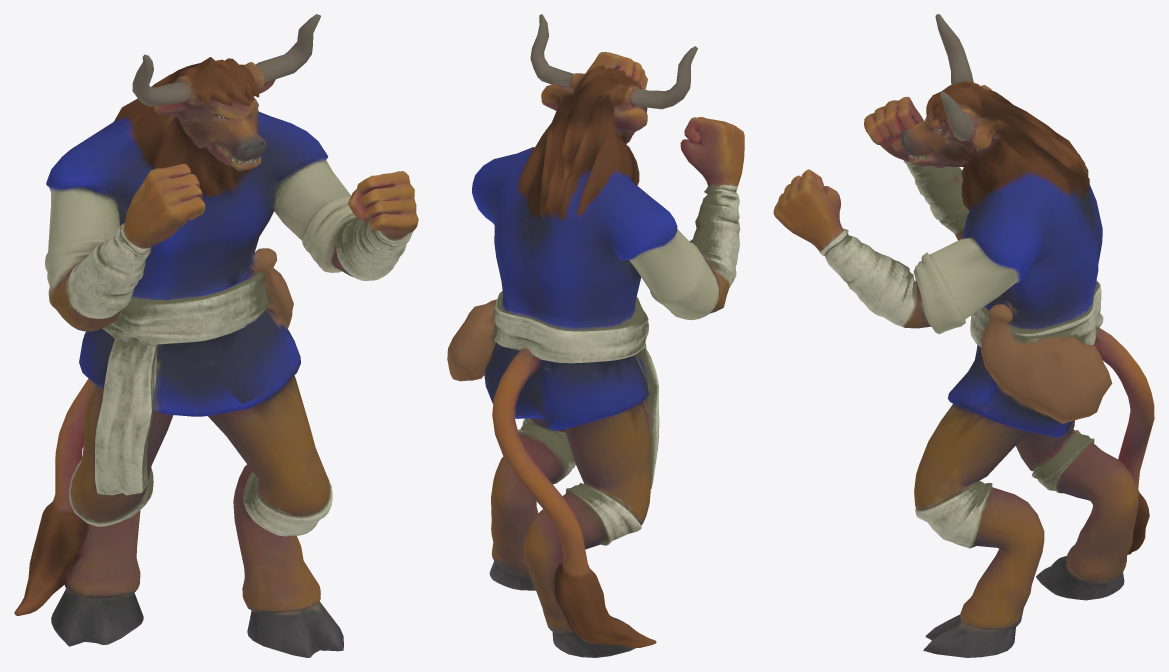
The model's file is MZ4250 - Minotaur Monk.glb.
3 renders of one model, left to right at view 1: azimuth 30°, elevation 25°; view 2: azimuth 150°, elevation 25°; view 3: azimuth 270°, elevation 25°, orthographic. The views are drawn at different scales.
Visible parts, largest first — view 1: Minotaur Monk_low.001; view 2: Minotaur Monk_low.001; view 3: Minotaur Monk_low.001.
Boxes of the visible parts, box(x1,y1,x2,y2) form: Minotaur Monk_low.001: box(14, 14, 418, 657); Minotaur Monk_low.001: box(447, 14, 744, 657); Minotaur Monk_low.001: box(773, 14, 1154, 657).
Size of the model in its own units: 1.19 by 2.5 by 1.55.
1 material, 1 textured.
